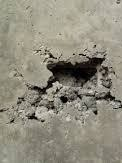Spalling: (1, 44, 122, 123)
